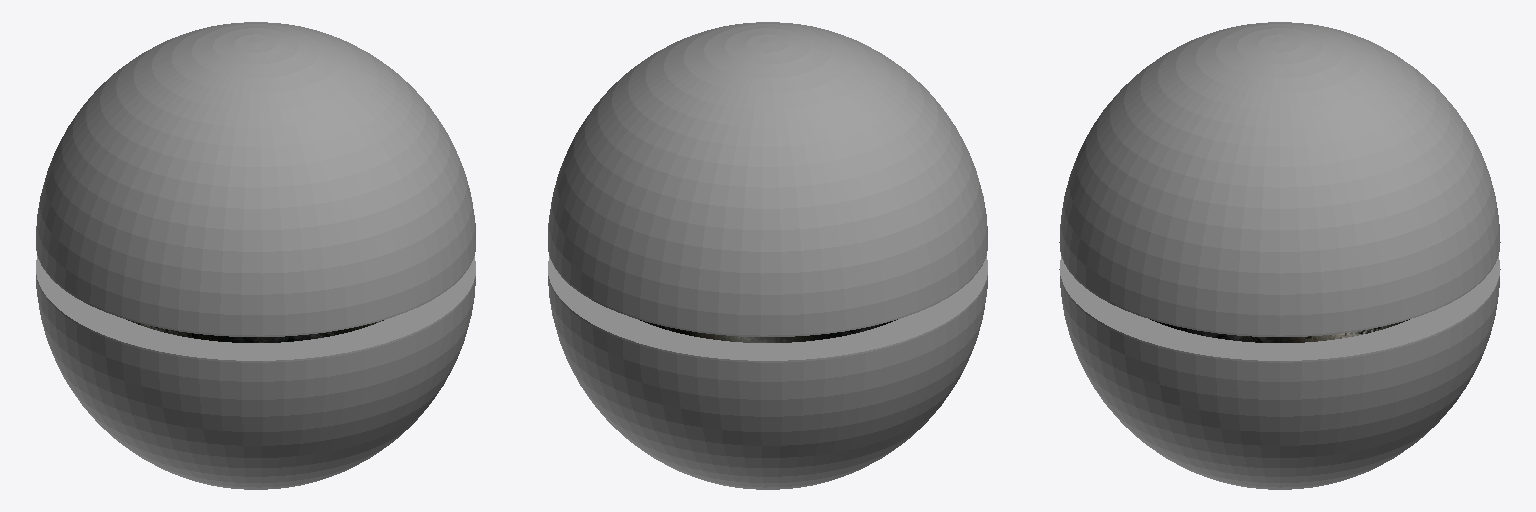
The picture shows the model from 3 angles: view 1: azimuth 30°, elevation 25°; view 2: azimuth 150°, elevation 25°; view 3: azimuth 270°, elevation 25°; orthographic projection.
Parts seen in each view (by area): view 1: Sphere.004, Sphere.005, Cylinder.002; view 2: Sphere.004, Sphere.005, Cylinder.002; view 3: Sphere.004, Sphere.005, Cylinder.002.
Boxes of the visible parts, x1,y1,x2,y2 form: Sphere.004: [36, 22, 475, 336]; Sphere.005: [36, 256, 475, 489]; Cylinder.002: [126, 319, 383, 342]; Sphere.004: [548, 22, 987, 336]; Sphere.005: [548, 256, 987, 489]; Cylinder.002: [640, 319, 897, 342]; Sphere.004: [1059, 22, 1500, 336]; Sphere.005: [1059, 256, 1500, 489]; Cylinder.002: [1150, 319, 1409, 342].
Size of the model in its own units: 2 by 2.14 by 2.
2 materials, 1 textured.